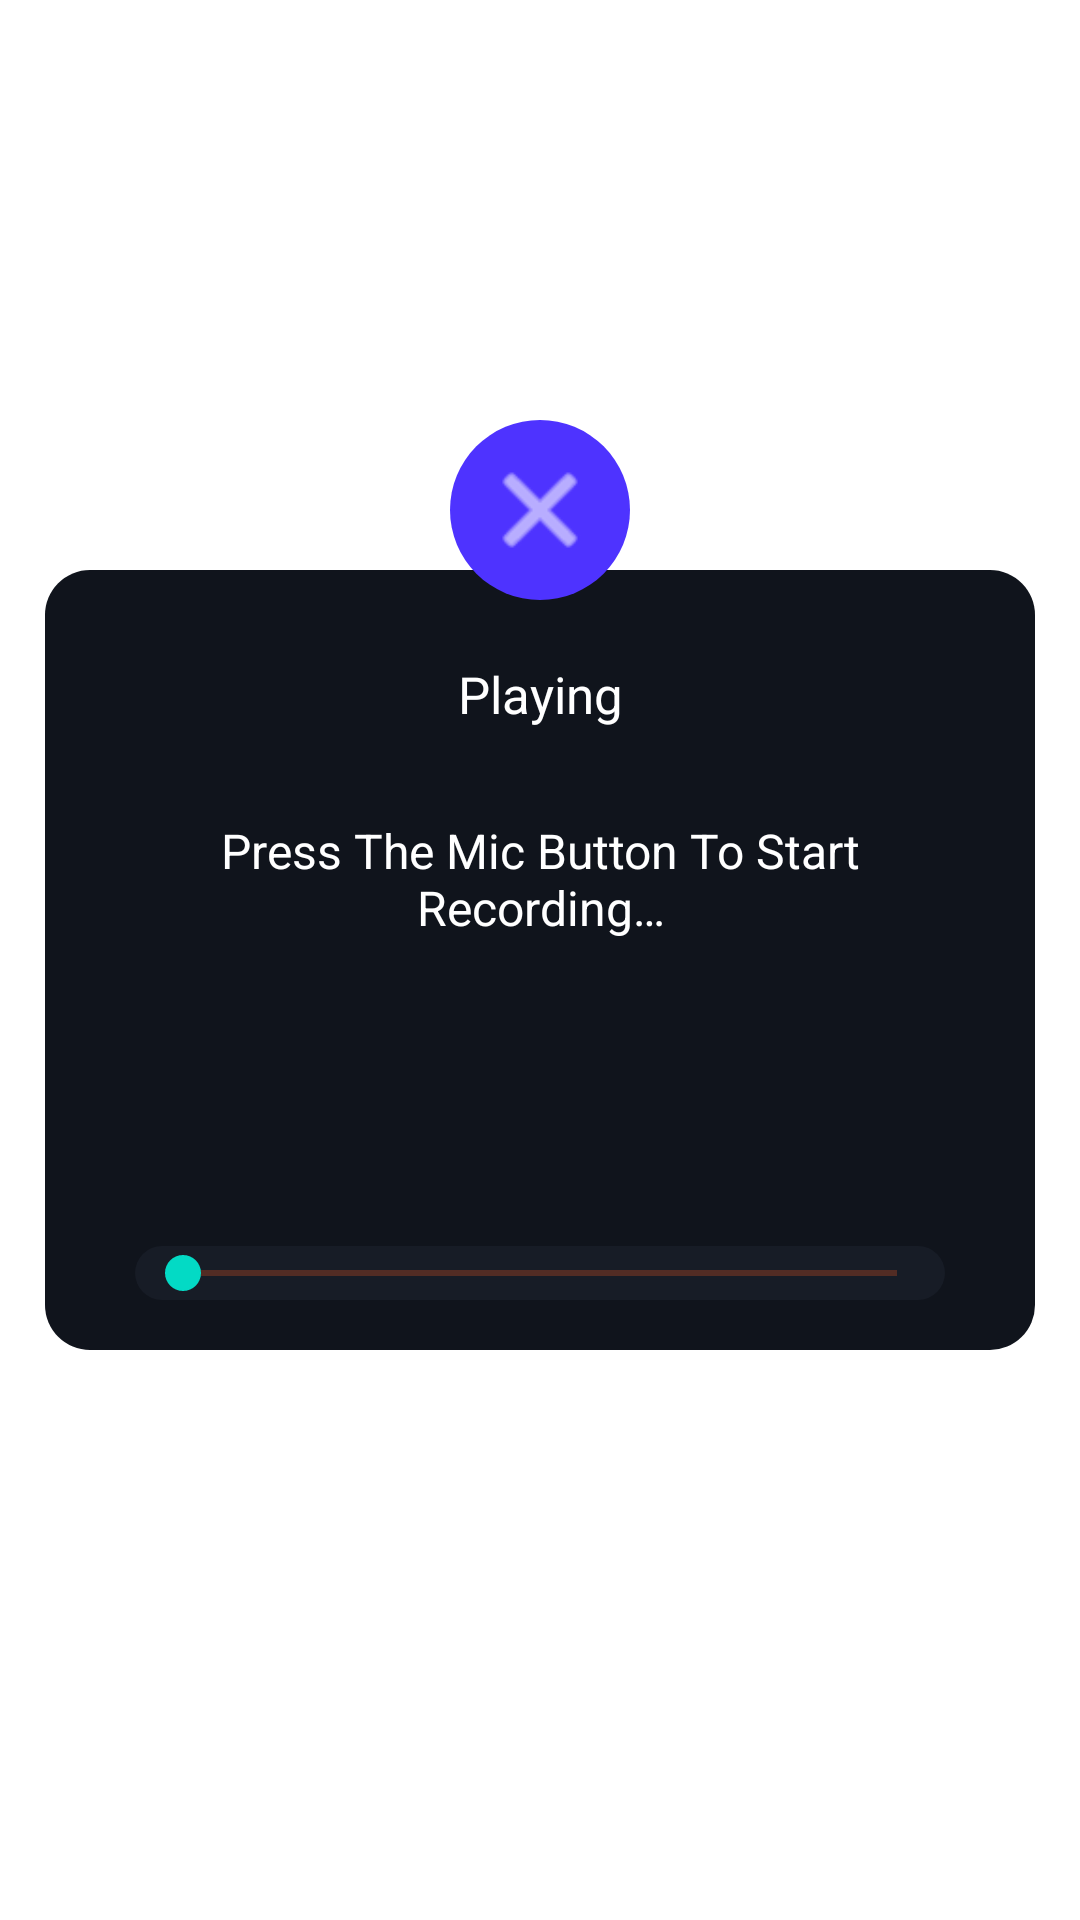

Named icons in this screenshot (1080w x 1920h) and their bounding boxes, BBox(x1, y1, x2, y2):
close clear cancel: BBox(450, 420, 630, 600)
